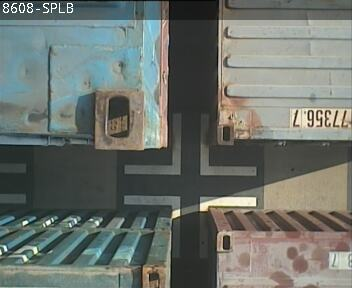groundmarker_1: (122, 115, 257, 176), (121, 196, 256, 257)
